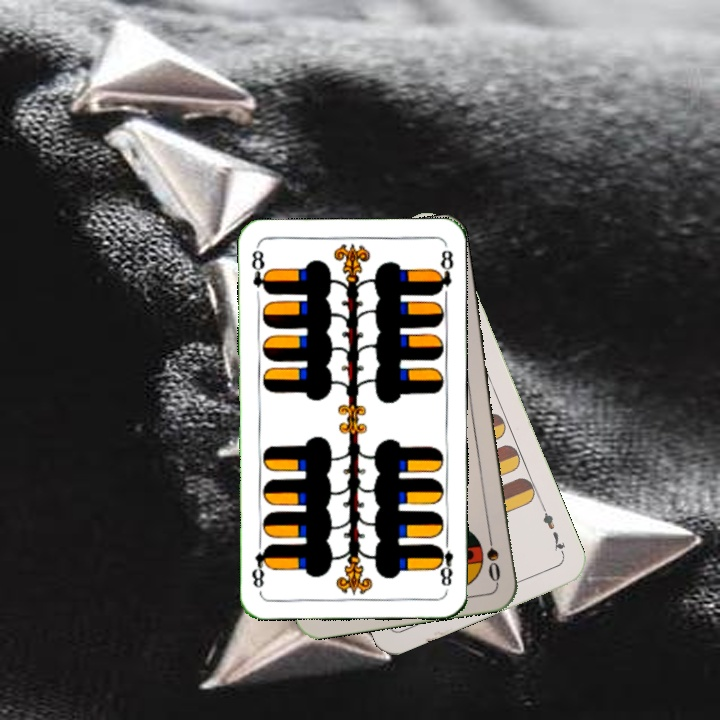E7: (538, 502, 568, 559)
E8: (248, 244, 272, 297), (432, 533, 455, 588)
SO: (482, 526, 503, 585)
